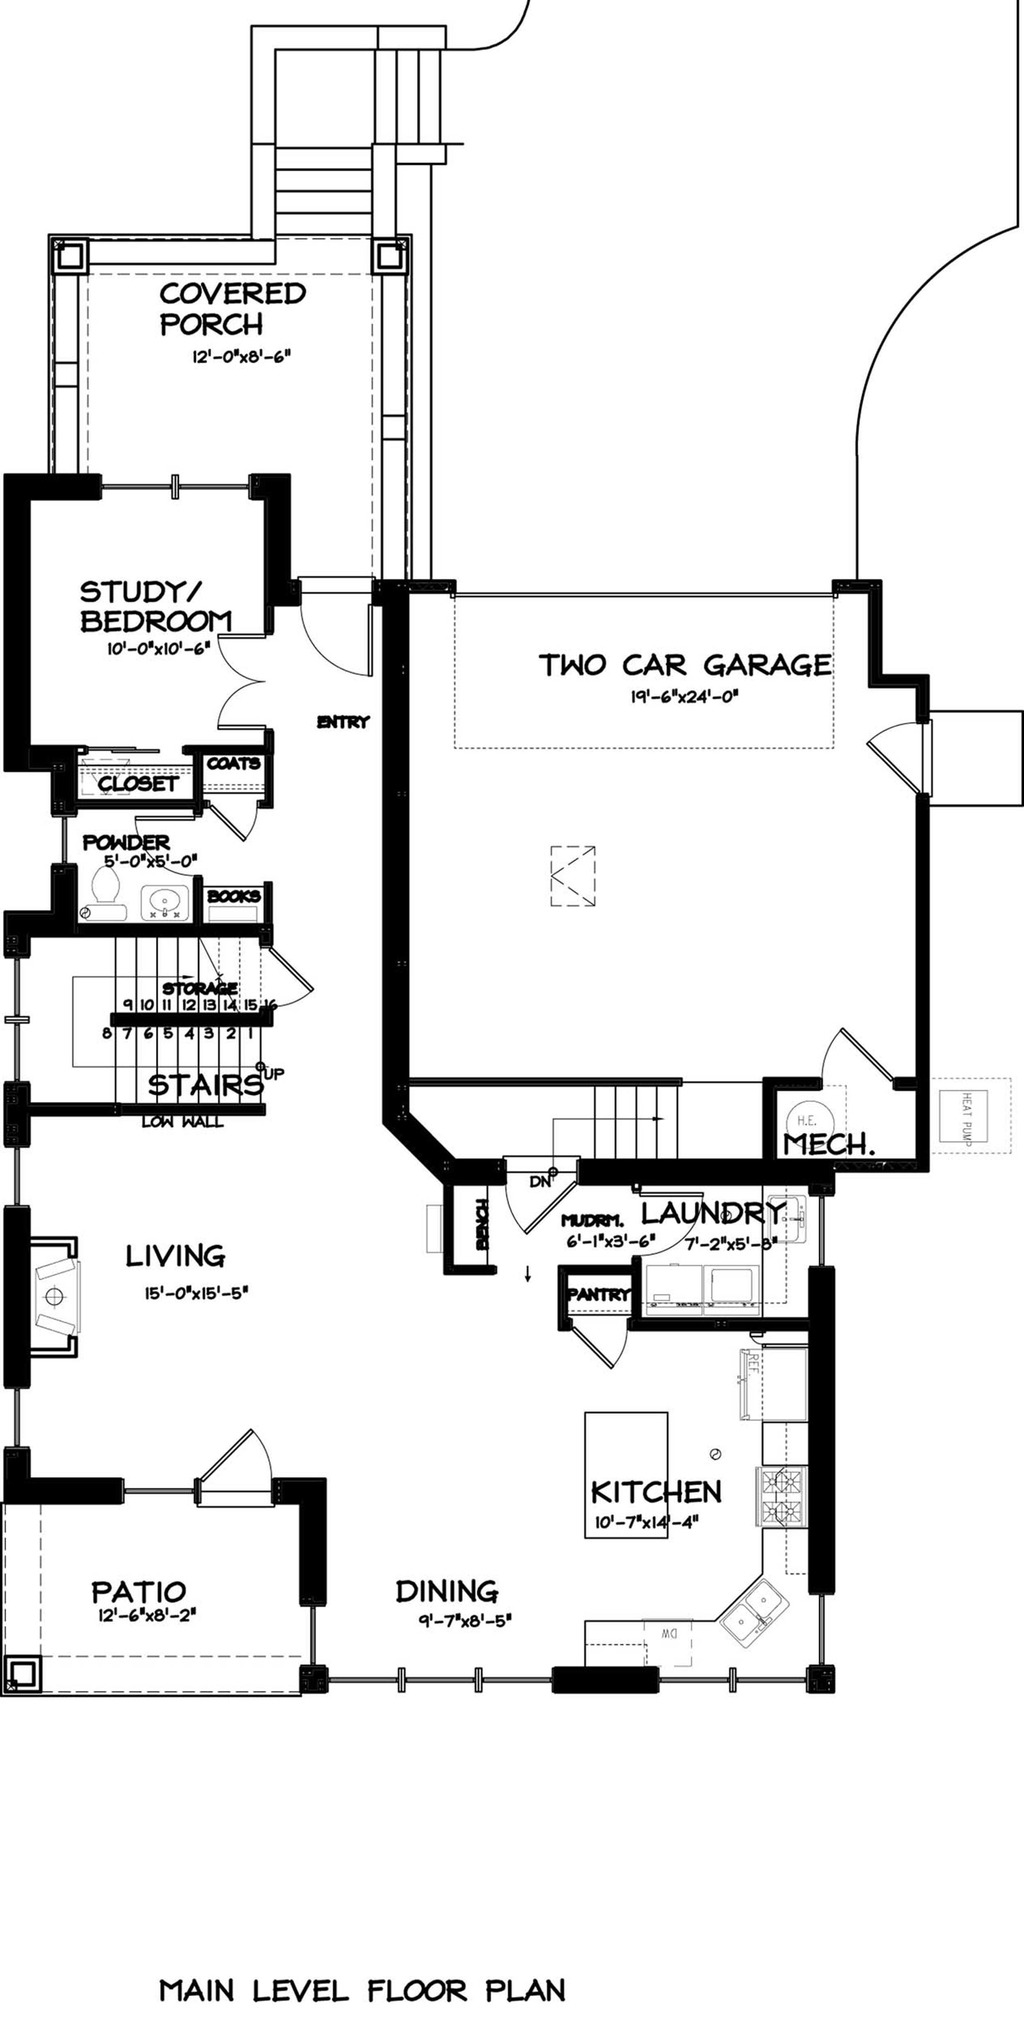door: (185, 1423, 319, 1526), (291, 564, 394, 692), (482, 1136, 576, 1246), (210, 623, 287, 736), (859, 692, 926, 813), (805, 1011, 904, 1078), (573, 1313, 637, 1379)
large_sink: (76, 840, 135, 926)
small_sink: (138, 851, 188, 930)
stairs: (29, 945, 276, 1101), (457, 1054, 694, 1154)
twin_sink: (701, 1548, 798, 1667)
